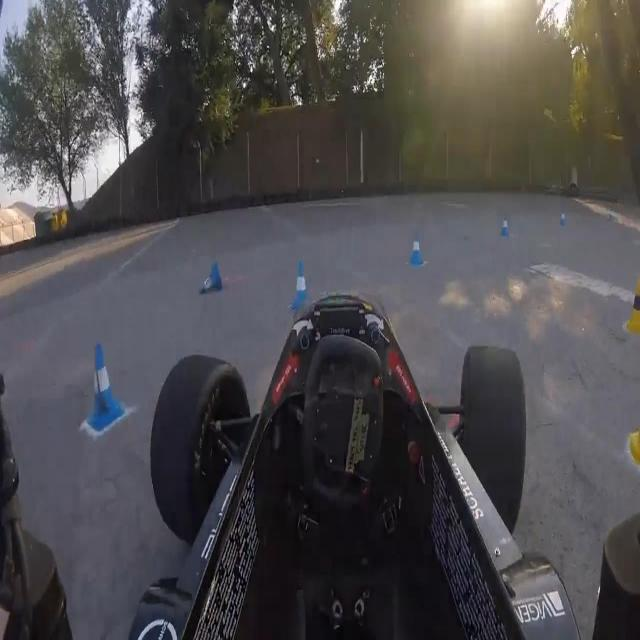blue_cone: (78, 334, 132, 436), (200, 246, 224, 306), (291, 255, 312, 314), (403, 222, 425, 276), (499, 212, 514, 241), (560, 209, 566, 226)
yellow_cone: (624, 276, 640, 336), (625, 418, 640, 470)
